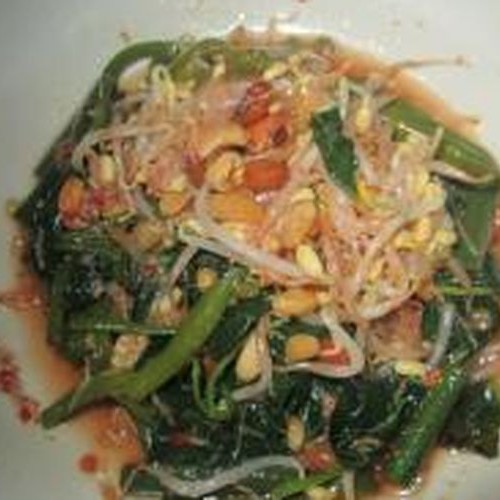serombotan: (32, 24, 487, 488)
